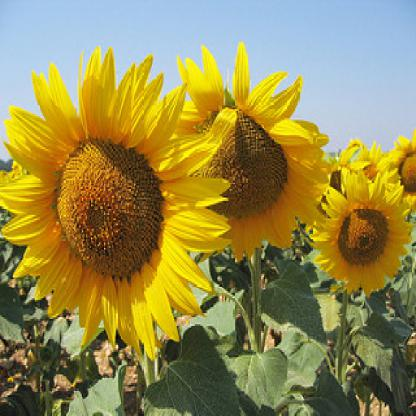SUN FLOWER: (2, 25, 412, 355)
